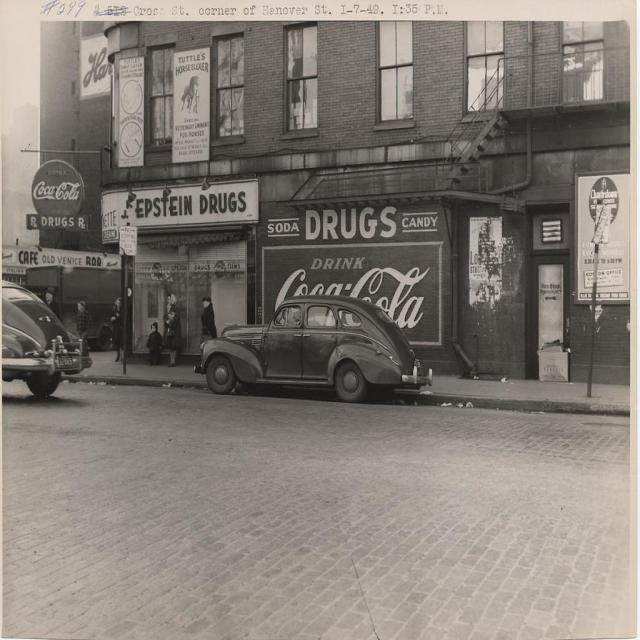car: (201, 276, 420, 403)
